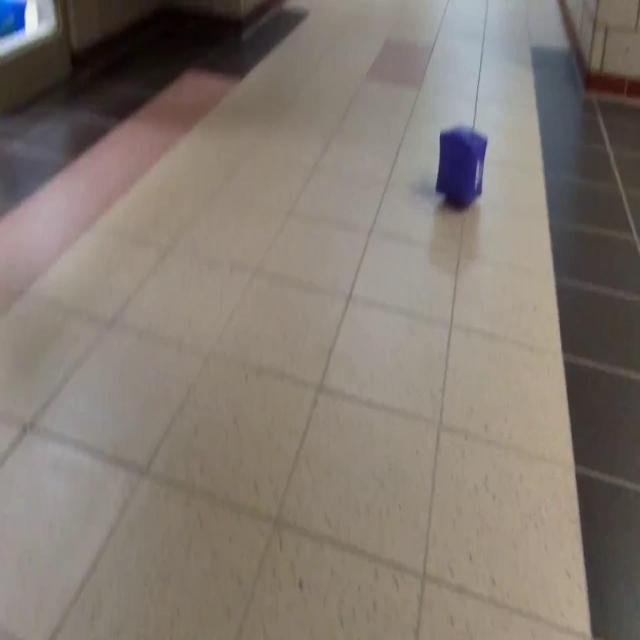frc_cube: (436, 125, 486, 207)
